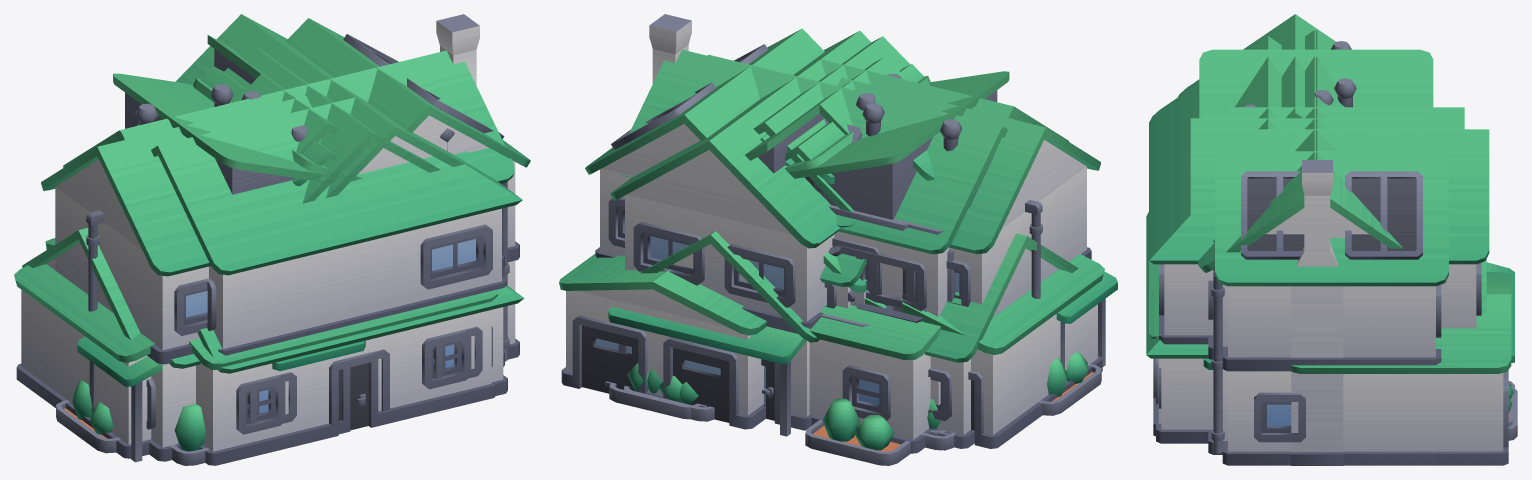
Rendered from suburban.glb.
The picture shows the model from 3 angles, left to right: view 1: azimuth 30°, elevation 25°; view 2: azimuth 150°, elevation 25°; view 3: azimuth 270°, elevation 25°; orthographic projection. The views are drawn at different scales.
Visible parts, largest first — view 1: building-type-f, building-type-t, building-type-n, building-type-d, building-type-b, building-type-m, building-type-k, building-type-u, building-type-s, building-type-r, building-type-e, building-type-l; view 2: building-type-n, building-type-f, building-type-d, building-type-t, building-type-b, building-type-e, building-type-k, building-type-m, building-type-r, building-type-s, building-type-u, building-type-o (+4 smaller); view 3: building-type-b, building-type-f, building-type-d, building-type-n, building-type-k, building-type-u, building-type-m, building-type-r, building-type-t, building-type-s, building-type-o, building-type-e.
Part boxes in pixels (box(x1,y1,x2,y2)): building-type-f: box(137, 14, 522, 465); building-type-t: box(45, 57, 498, 465); building-type-n: box(41, 96, 365, 462); building-type-d: box(14, 14, 514, 458); building-type-b: box(22, 18, 530, 453); building-type-m: box(197, 285, 524, 434); building-type-k: box(113, 73, 357, 194); building-type-u: box(263, 38, 495, 197); building-type-s: box(224, 44, 440, 203); building-type-r: box(207, 35, 339, 153); building-type-e: box(63, 56, 421, 167); building-type-l: box(193, 78, 362, 179); building-type-n: box(559, 77, 1117, 446); building-type-f: box(608, 59, 1068, 436); building-type-d: box(621, 14, 1104, 448); building-type-t: box(623, 54, 1007, 465); building-type-b: box(585, 28, 1101, 448); building-type-e: box(785, 110, 1007, 316); building-type-k: box(788, 71, 1009, 290); building-type-m: box(609, 231, 819, 419); building-type-r: box(745, 56, 908, 326); building-type-s: box(753, 36, 909, 211); building-type-u: box(720, 31, 956, 450); building-type-o: box(690, 56, 914, 220); building-type-b: box(1211, 151, 1448, 465); building-type-f: box(1149, 36, 1514, 443); building-type-d: box(1198, 47, 1402, 465); building-type-n: box(1178, 14, 1511, 465); building-type-k: box(1199, 49, 1433, 118); building-type-u: box(1190, 129, 1424, 443); building-type-m: box(1146, 212, 1517, 443); building-type-r: box(1230, 90, 1464, 129); building-type-t: box(1149, 30, 1514, 436); building-type-s: box(1190, 104, 1424, 369); building-type-o: box(1317, 72, 1357, 198); building-type-e: box(1316, 30, 1335, 159).
Size of the model in its own units: 1.83 by 1.24 by 1.43.
1 material, 1 textured.
